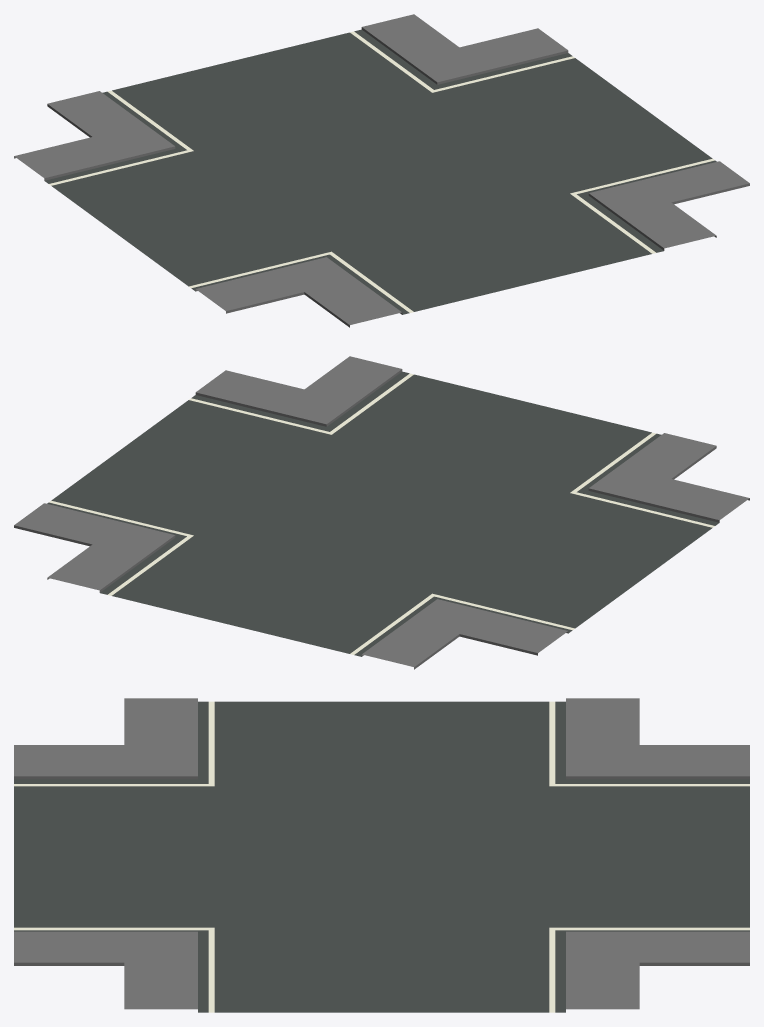
Rendered from Road_Crossroads_2.fbx.
3 renders of one model, top to bottom at view 1: azimuth 30°, elevation 25°; view 2: azimuth 150°, elevation 25°; view 3: azimuth 270°, elevation 25°, orthographic. The views are drawn at different scales.
Visible parts, largest first — view 1: Road_Crossroads_2; view 2: Road_Crossroads_2; view 3: Road_Crossroads_2.
Part boxes in pixels (x1,y1,x2,y2): Road_Crossroads_2: (14, 14, 749, 327); Road_Crossroads_2: (14, 356, 749, 669); Road_Crossroads_2: (14, 698, 749, 1012).
Size of the model in its own units: 42 by 0.1948 by 42.
1 material, 1 textured.
